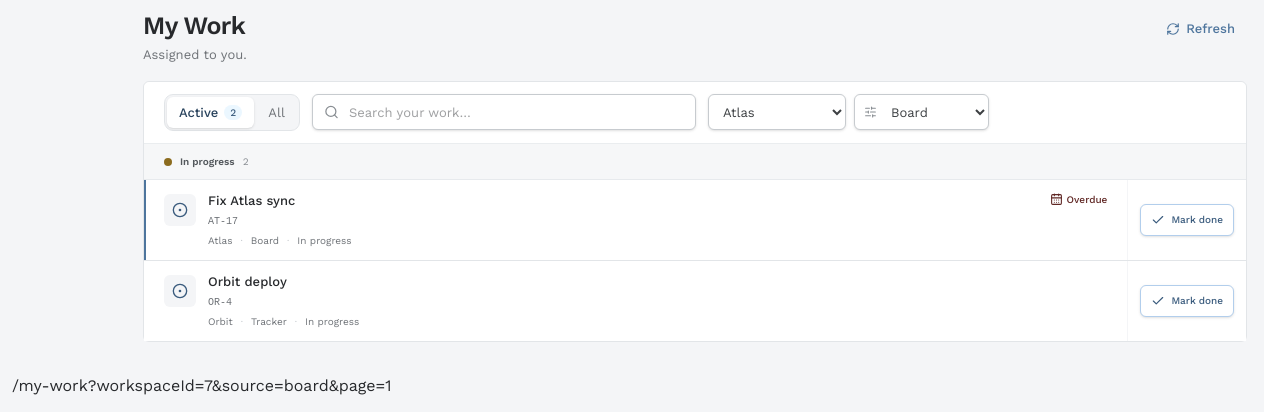
Test: MyWorkPage › renders authorized personal work with grouped rows, filters, and URL state
Check: the text "AT-17" is shown, box [208, 214, 238, 229]
Check: the text "Fix Atlas sync" is shown, box [208, 193, 295, 208]
What coordinates should you click on to do the following:
click the button "All"
I would click on:
 (277, 112)
Its box is [256, 96, 297, 128].
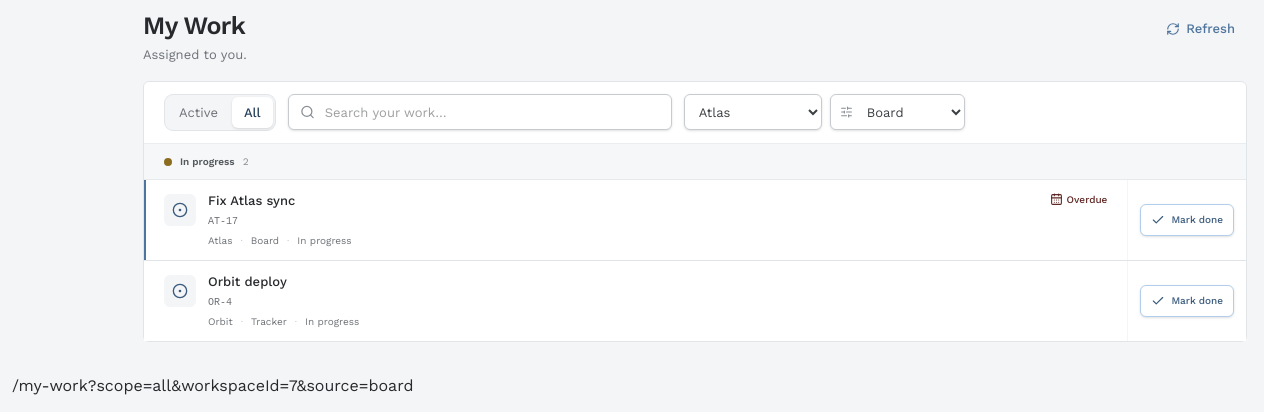
Check: the text with test id "location" shows "scope=all&workspaceId=7&source=board", box [88, 376, 413, 395]
